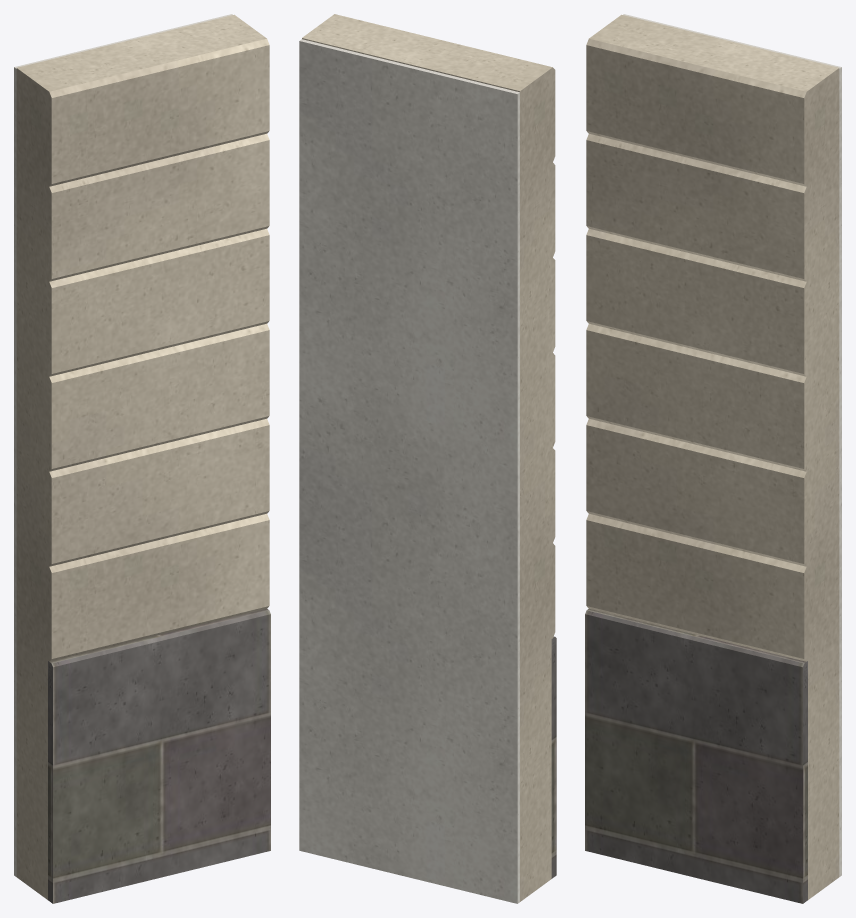
Rendered from pv_side_g.glb.
The picture shows the model from 3 angles, left to right: view 1: azimuth 30°, elevation 25°; view 2: azimuth 150°, elevation 25°; view 3: azimuth 330°, elevation 25°; orthographic projection.
Parts seen in each view (by area): view 1: pv_side_g_ashlar, pv_side_g_plinth, pv_side_g_plaster; view 2: pv_side_g_plaster, pv_side_g_ashlar, pv_side_g_plinth; view 3: pv_side_g_ashlar, pv_side_g_plinth, pv_side_g_plaster.
Boxes of the visible parts, x1=… form: pv_side_g_ashlar: x1=16, y1=14, x2=269, y2=899; pv_side_g_plinth: x1=48, y1=608, x2=270, y2=903; pv_side_g_plaster: x1=14, y1=14, x2=232, y2=876; pv_side_g_plaster: x1=299, y1=39, x2=519, y2=903; pv_side_g_ashlar: x1=302, y1=14, x2=555, y2=901; pv_side_g_plinth: x1=551, y1=636, x2=556, y2=878; pv_side_g_ashlar: x1=586, y1=14, x2=839, y2=899; pv_side_g_plinth: x1=585, y1=608, x2=807, y2=903; pv_side_g_plaster: x1=623, y1=14, x2=841, y2=876.
Size of the model in its own units: 1 by 3.55 by 0.31.
3 materials, 3 textured.
